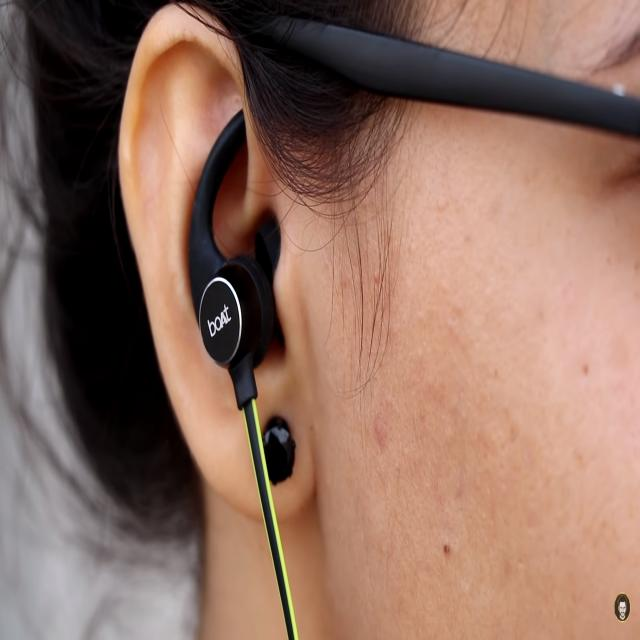Earphone: (187, 101, 298, 640)
